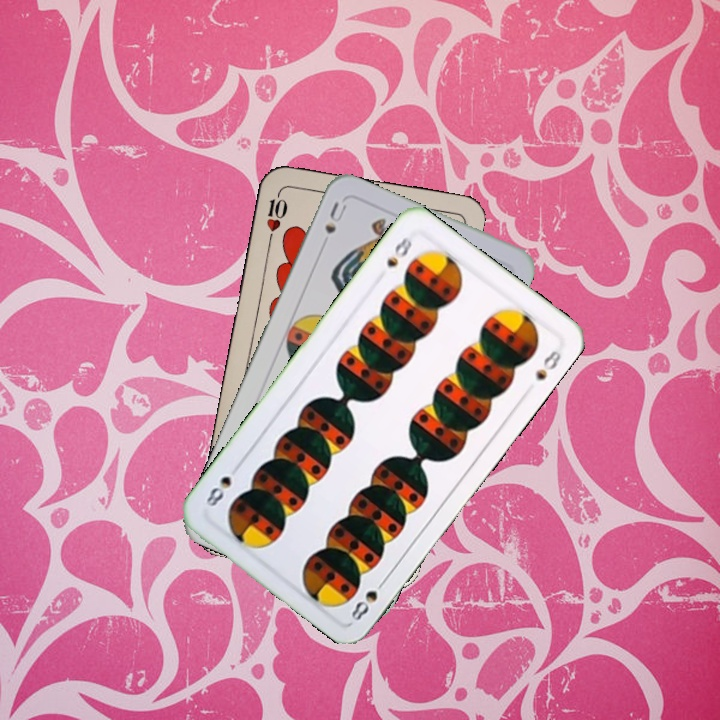H10: (262, 186, 290, 245)
S8: (346, 573, 390, 624), (382, 232, 415, 270)
SU: (320, 198, 350, 237)
